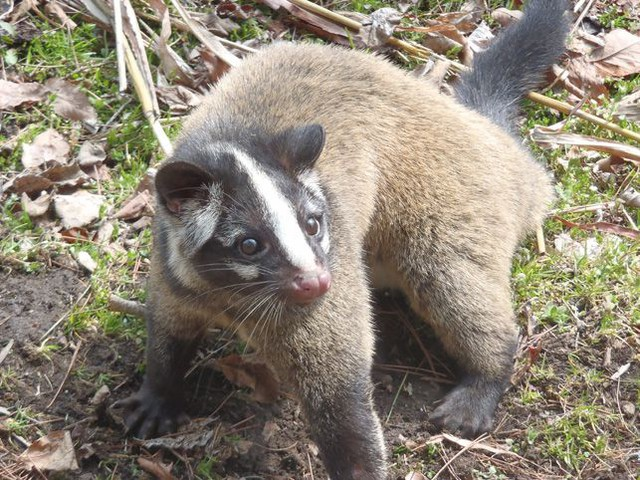civet: (115, 11, 573, 470)
